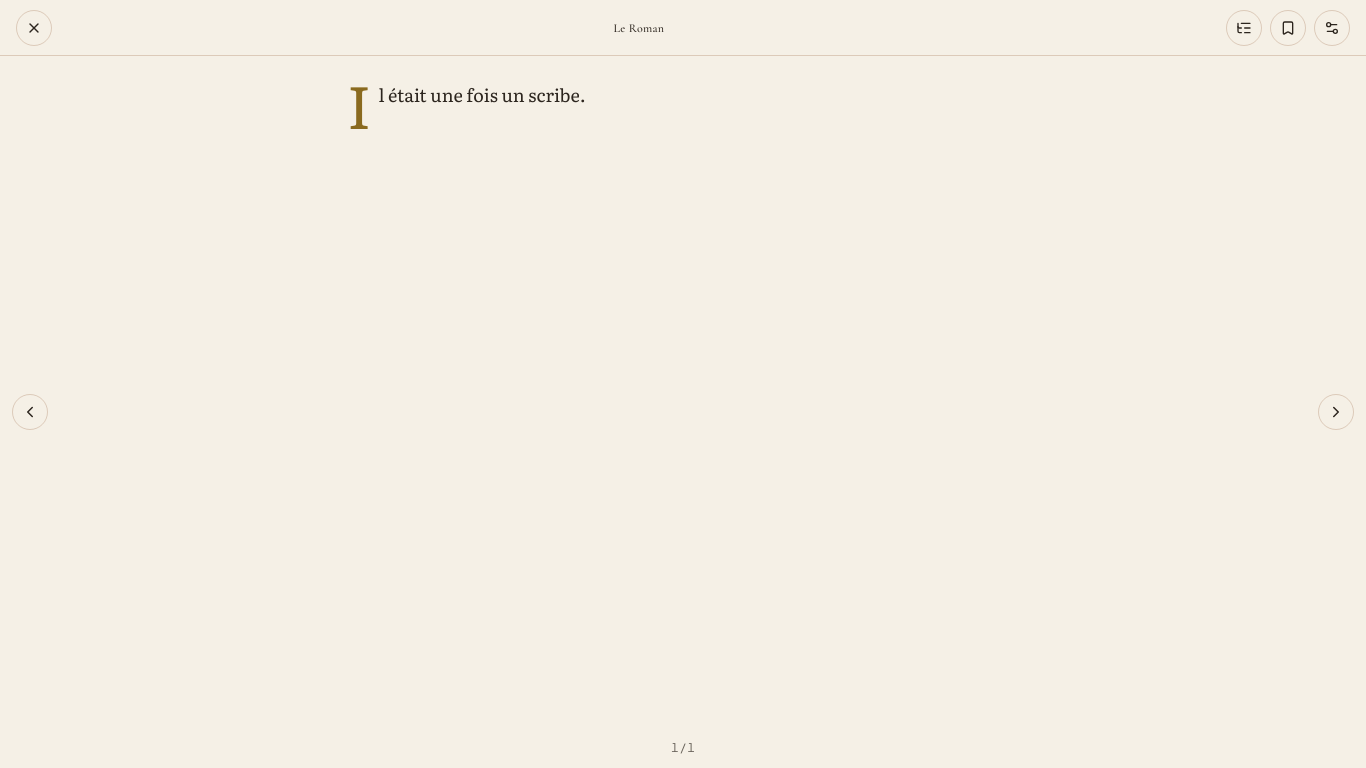
Test: WorkshopReaderView › saves a golden bookmark through the backend and lists it
Expected: the text "Il était une fois un scribe." is shown, [347, 80, 586, 147]
Step 1. Click the button named "Poser un signet doré" → (1205, 84), box [1181, 56, 1229, 112]
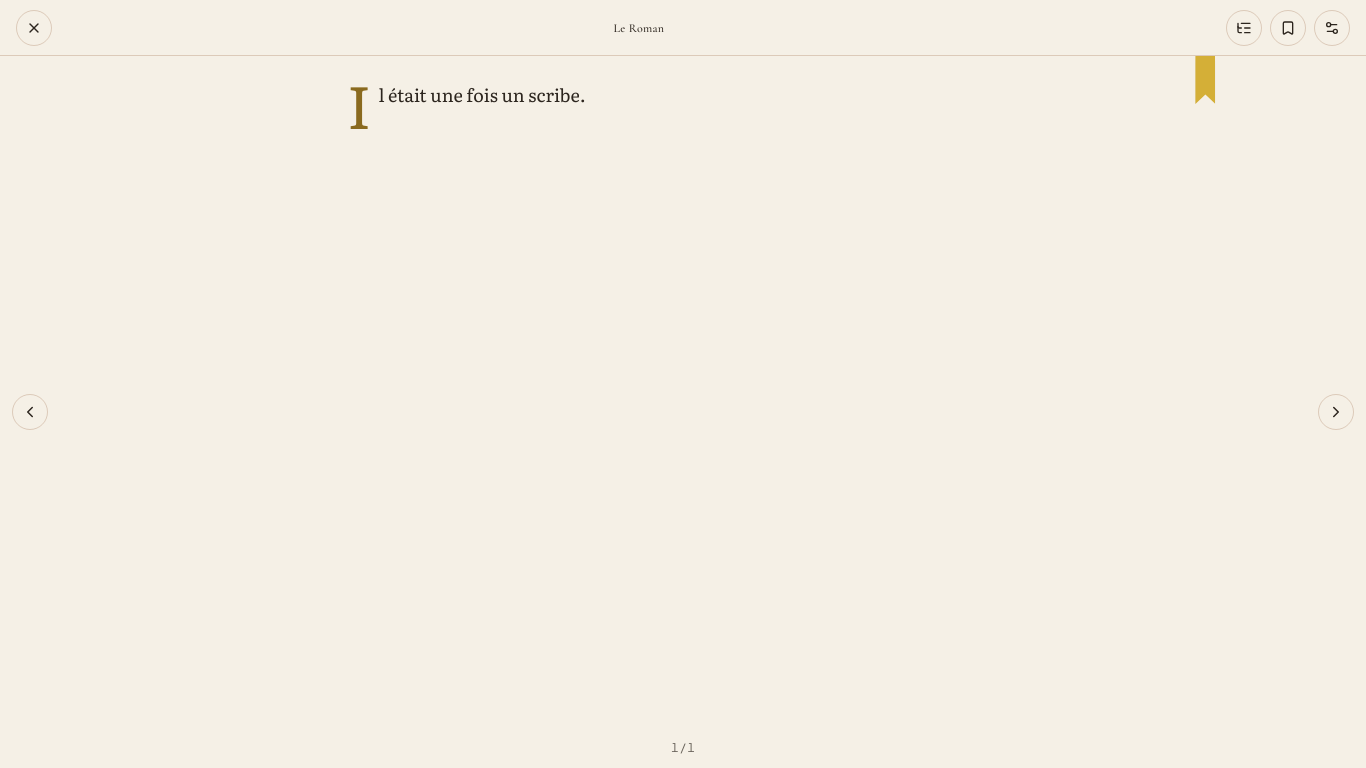
Step 2. Click the button named "Signets dorés" → (1288, 28), box [1270, 10, 1306, 46]
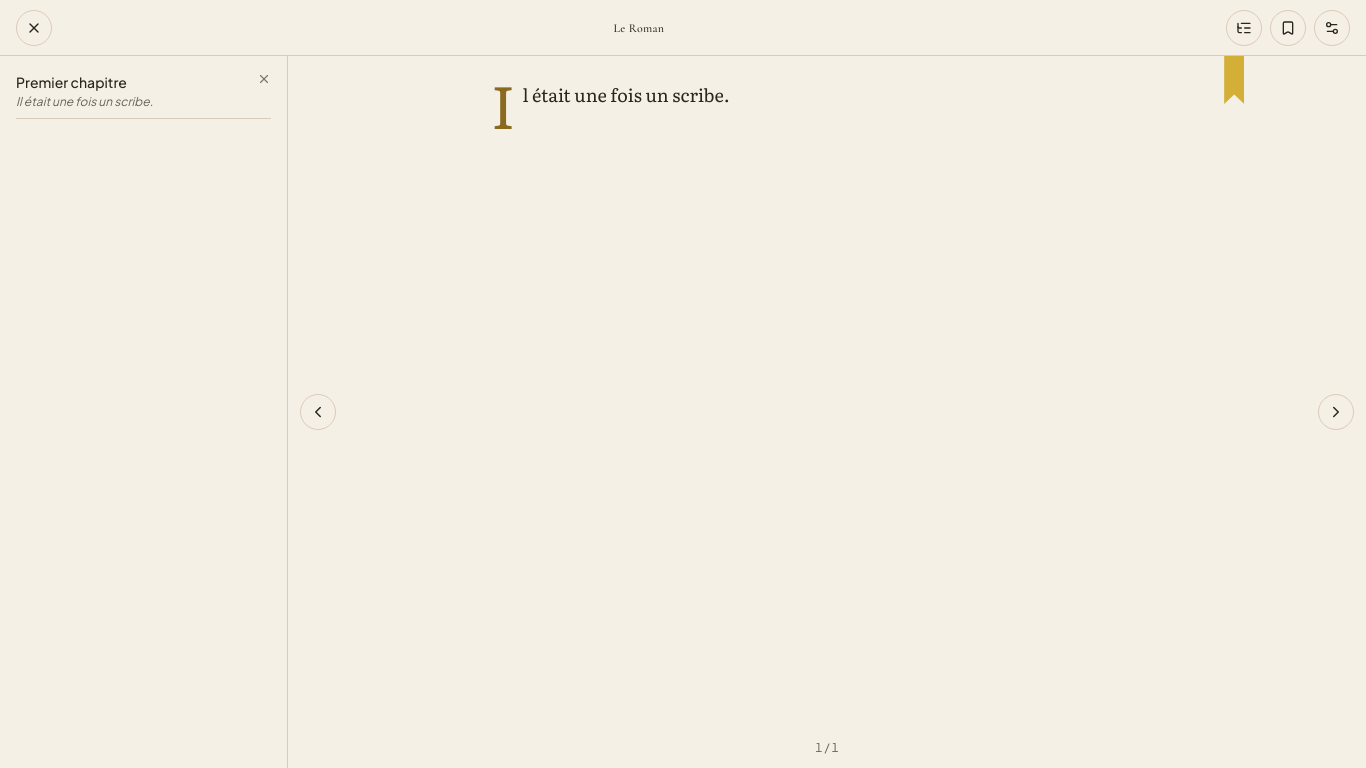
Expected: the button named "Retirer le signet Premier chapitre" is shown, [257, 72, 271, 86]
